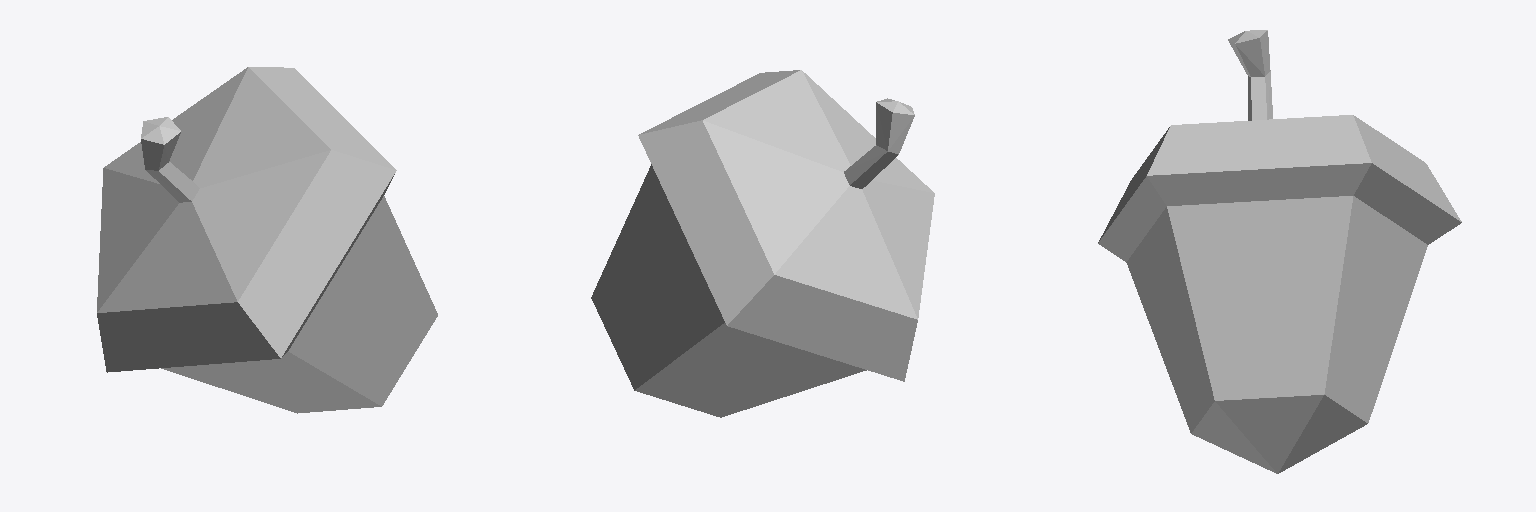
Rendered from GoldenGland.obj.
3 views of the same model, side by side, from view 1: azimuth 30°, elevation 25°; view 2: azimuth 150°, elevation 25°; view 3: azimuth 270°, elevation 25° (orthographic).
Bounding box in the file's own units: 6.03 × 6.35 × 6.15.